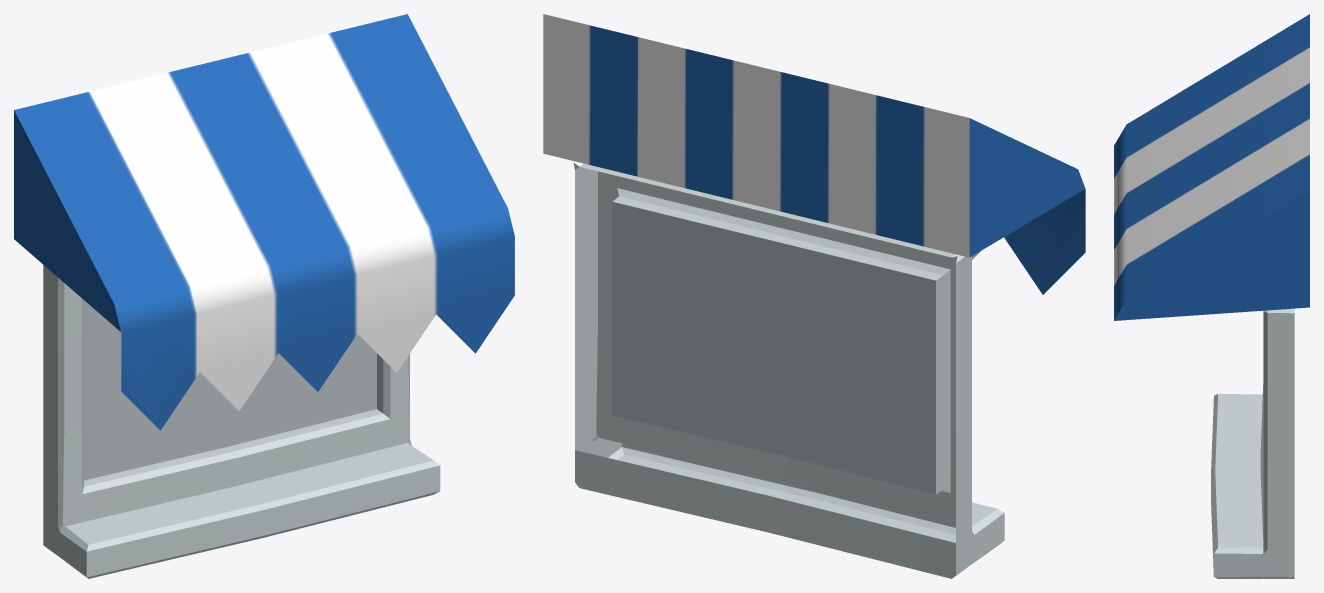
File: fbx_oldbuilding_window_p.fbx
3 views of the same model, side by side, from view 1: azimuth 30°, elevation 25°; view 2: azimuth 150°, elevation 25°; view 3: azimuth 270°, elevation 25° (orthographic). The views are drawn at different scales.
Parts seen in each view (by area): view 1: fbx_oldbuilding_window_p; view 2: fbx_oldbuilding_window_p; view 3: fbx_oldbuilding_window_p.
Part boxes in pixels (left/top/right/bottom): fbx_oldbuilding_window_p: left=14, top=14, right=514, bottom=578; fbx_oldbuilding_window_p: left=543, top=14, right=1085, bottom=578; fbx_oldbuilding_window_p: left=1114, top=14, right=1309, bottom=578.
Size of the model in its own units: 1.18 by 1.25 by 0.5556.
Materials: 2 (1 with a texture image).
